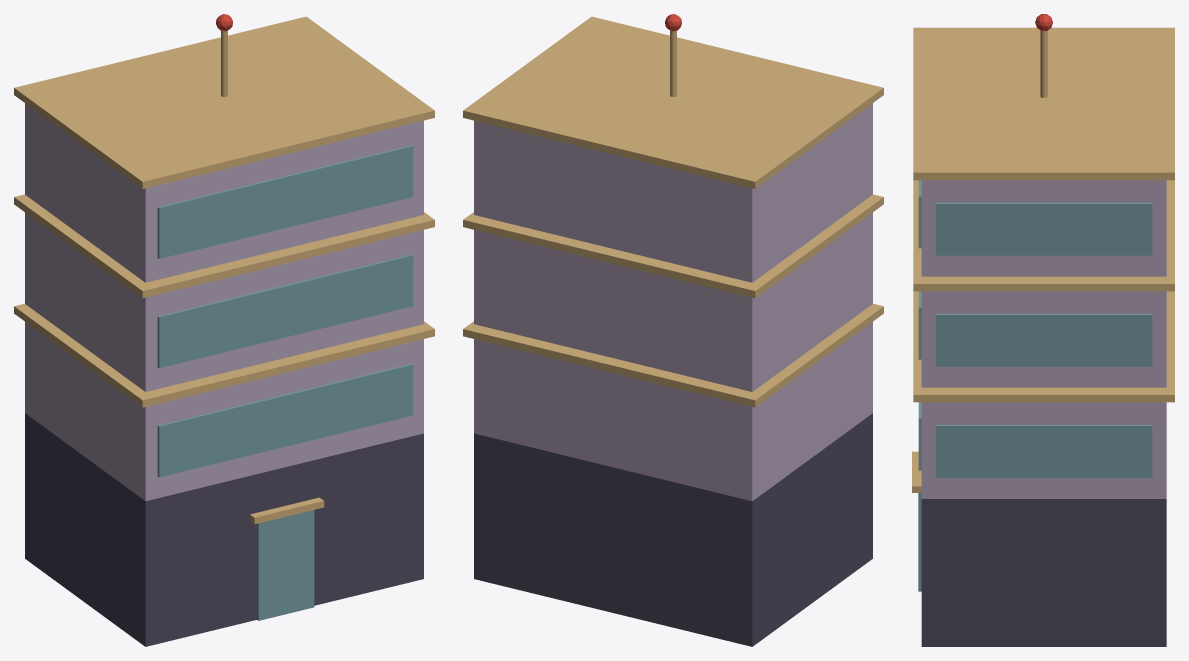
3 views of the same model, side by side, from view 1: azimuth 30°, elevation 25°; view 2: azimuth 150°, elevation 25°; view 3: azimuth 270°, elevation 25° (orthographic).
Visible parts, largest first — view 1: RC-008 Low office block batched; view 2: RC-008 Low office block batched; view 3: RC-008 Low office block batched.
Part boxes in pixels (x1=…): RC-008 Low office block batched: x1=14, y1=14, x2=434, y2=646; RC-008 Low office block batched: x1=463, y1=14, x2=883, y2=646; RC-008 Low office block batched: x1=912, y1=14, x2=1174, y2=646.
Size of the model in its own units: 8.4 by 15.22 by 6.43.
